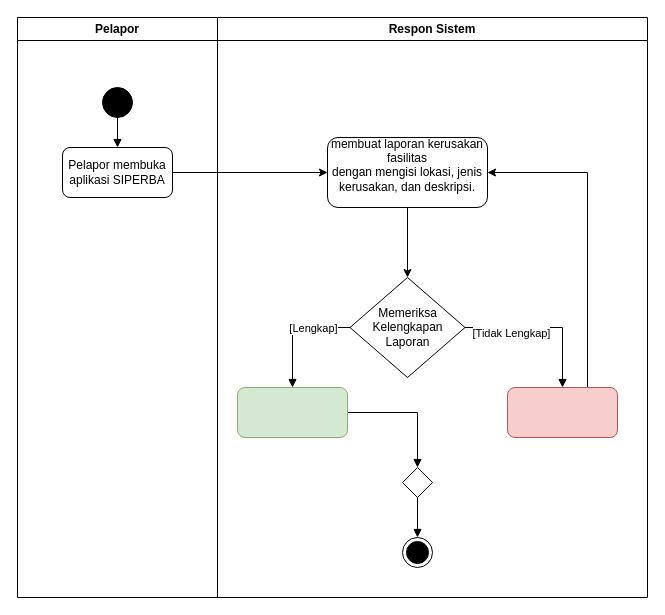
Some shapes in this 665 by 615 pixel diagram are drawn without their labels. The shapes that lost their labels are listed below. From the top down, each one's box as (x1, y1, x2, y2) in pixels, then its label:
(236, 386, 348, 438): Laporan Tercatat dengan status dilaporkan
(506, 386, 618, 438): Laporan Tidak lengkap
